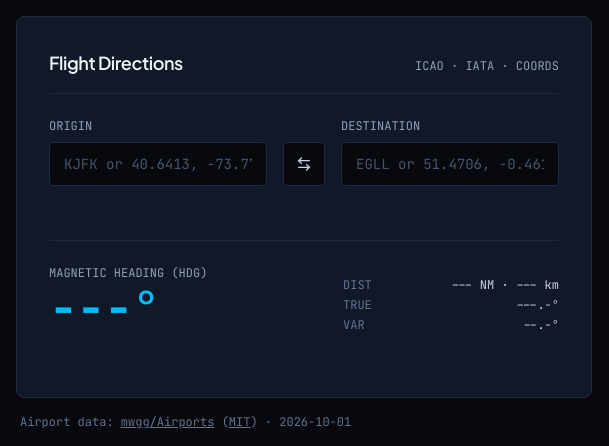
App › shows loading while the airport database is loading
Type "KJFK" into the field labelled "ORIGIN". click: (158, 164)
box: [49,142,267,186]
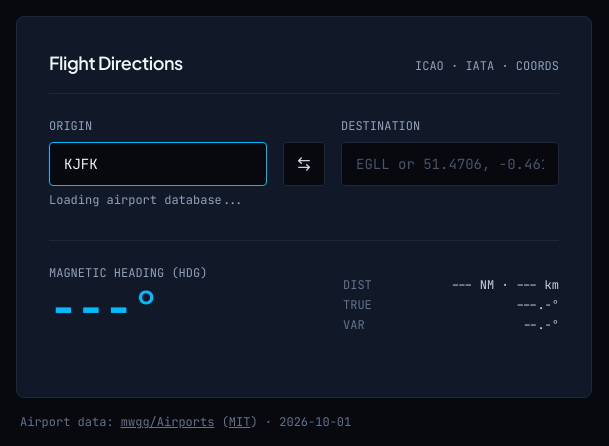
Expected: the text "Loading airport database..." is shown, [49,192,267,208]
